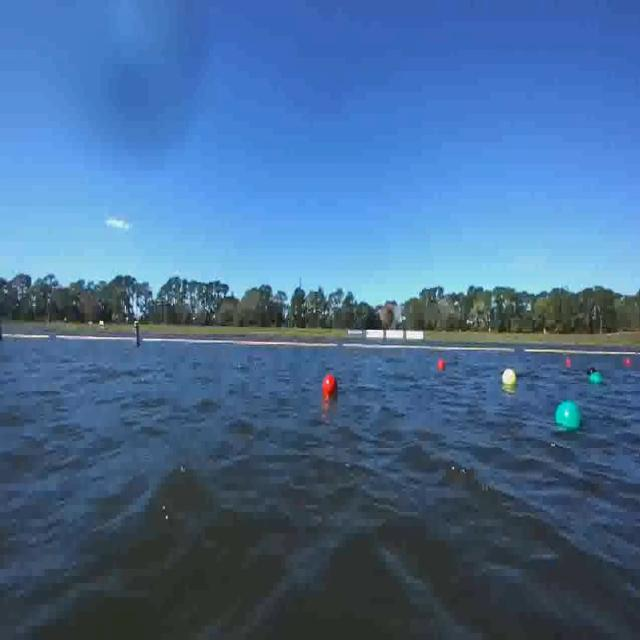green-buoy: (554, 400, 582, 432), (588, 372, 600, 384)
red-buoy: (326, 373, 339, 395), (440, 358, 448, 370), (624, 358, 632, 366), (566, 358, 572, 368)
yellow-buoy: (502, 369, 516, 388)
